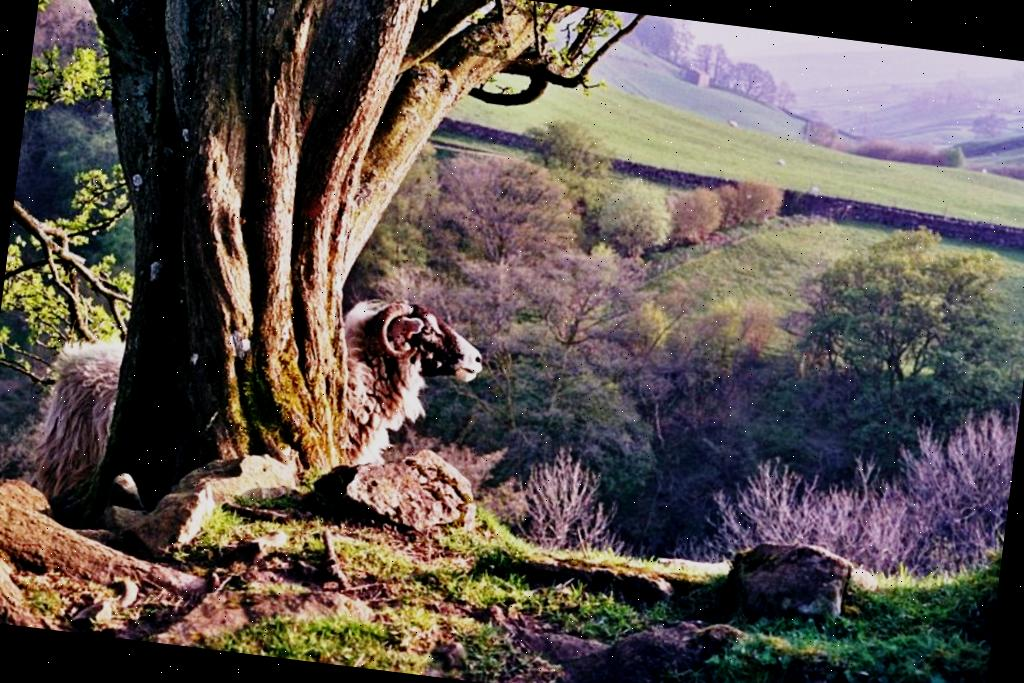Sheep: (29, 255, 489, 551)
